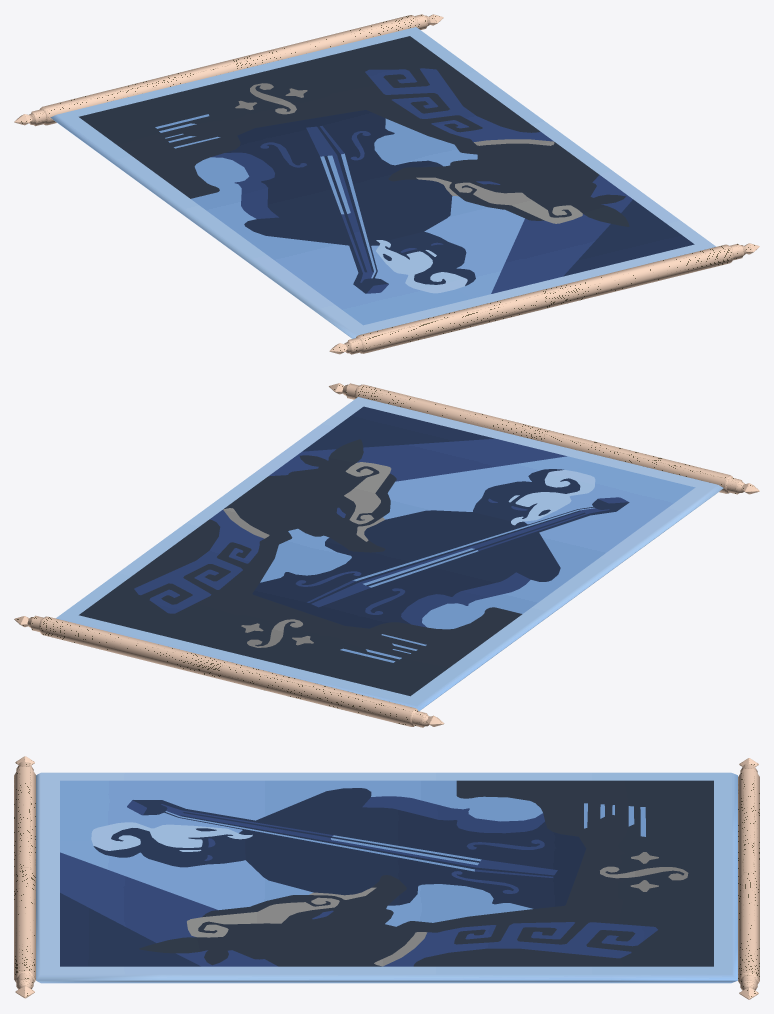
Rendered from P_AP23WallPosterDuet.glb.
The picture shows the model from 3 angles, top to bottom: view 1: azimuth 30°, elevation 25°; view 2: azimuth 150°, elevation 25°; view 3: azimuth 270°, elevation 25°; orthographic projection. The views are drawn at different scales.
Visible parts, largest first — view 1: P_AP23WallPosterDuet; view 2: P_AP23WallPosterDuet; view 3: P_AP23WallPosterDuet.
Part boxes in pixels (x1=…): P_AP23WallPosterDuet: x1=14, y1=14, x2=759, y2=354; P_AP23WallPosterDuet: x1=14, y1=383, x2=759, y2=727; P_AP23WallPosterDuet: x1=14, y1=756, x2=759, y2=999.
Bounding box in the file's own units: 1.46 × 0.0594 × 1.91.
Materials: 1 (1 with a texture image).
